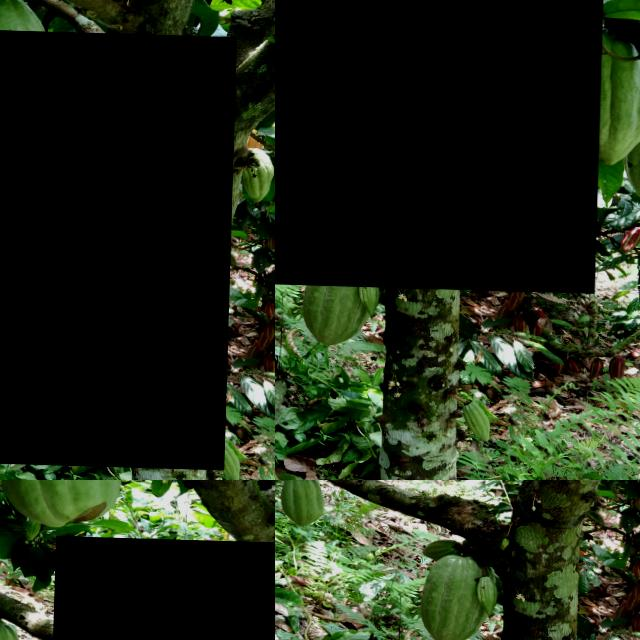Sana: (0, 28, 237, 467), (275, 0, 604, 290), (429, 299, 640, 480), (49, 535, 275, 640), (429, 549, 485, 640), (284, 480, 329, 528), (476, 575, 505, 610), (424, 536, 464, 560)
